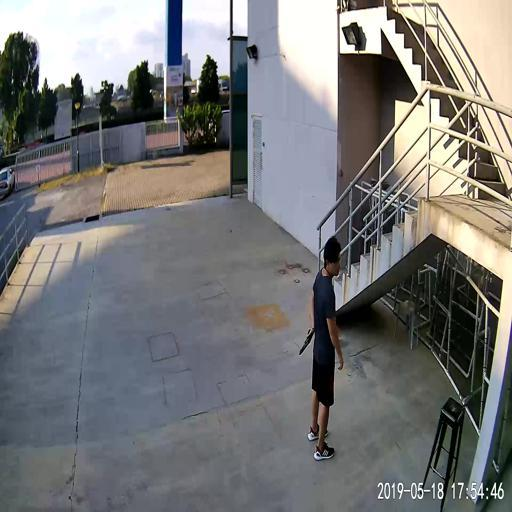Handgun: (297, 327, 311, 355)
